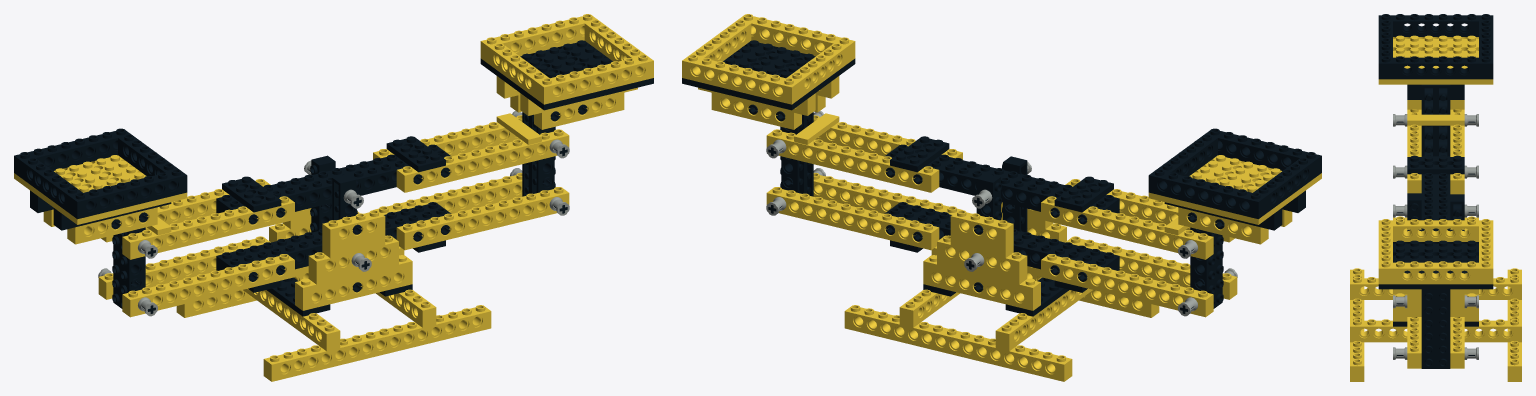
Rendered from scale.dae.
3 renders of one model, left to right at view 1: azimuth 30°, elevation 25°; view 2: azimuth 150°, elevation 25°; view 3: azimuth 270°, elevation 25°, orthographic. The views are drawn at different scales.
Size of the model in its own units: 840 by 240 by 300.
